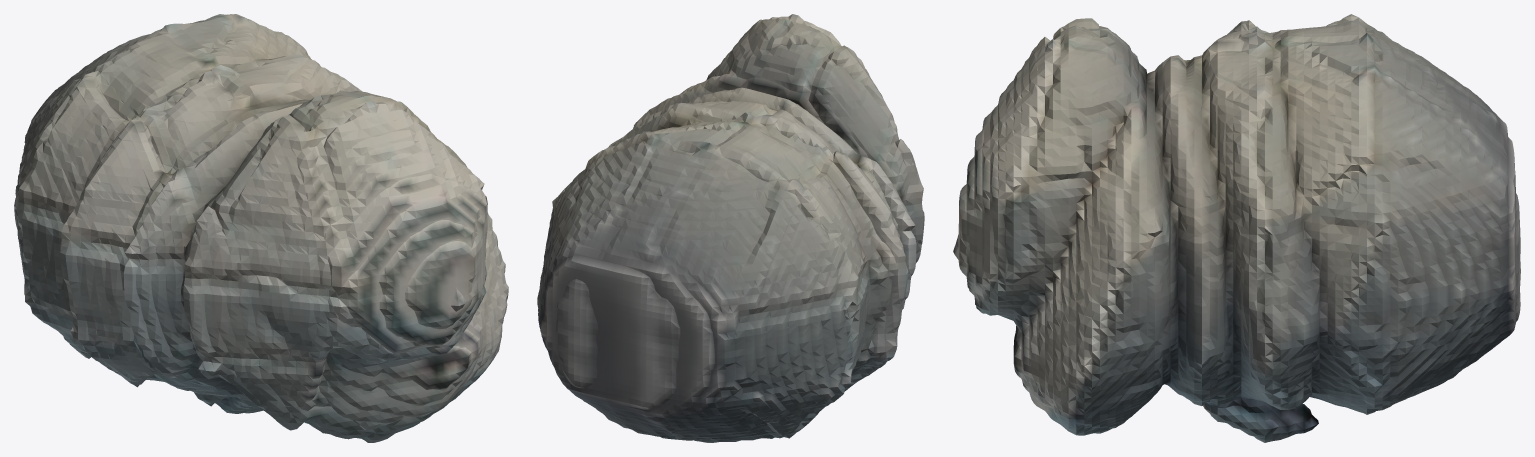
3 renders of one model, left to right at view 1: azimuth 30°, elevation 25°; view 2: azimuth 150°, elevation 25°; view 3: azimuth 270°, elevation 25°, orthographic. The views are drawn at different scales.
Parts seen in each view (by area): view 1: world; view 2: world; view 3: world.
Boxes of the visible parts, left/top/right/bottom form: world: left=14, top=14, right=508, bottom=442; world: left=537, top=14, right=924, bottom=442; world: left=953, top=14, right=1520, bottom=442.
Size of the model in its own units: 0.791 by 0.773 by 0.991.
